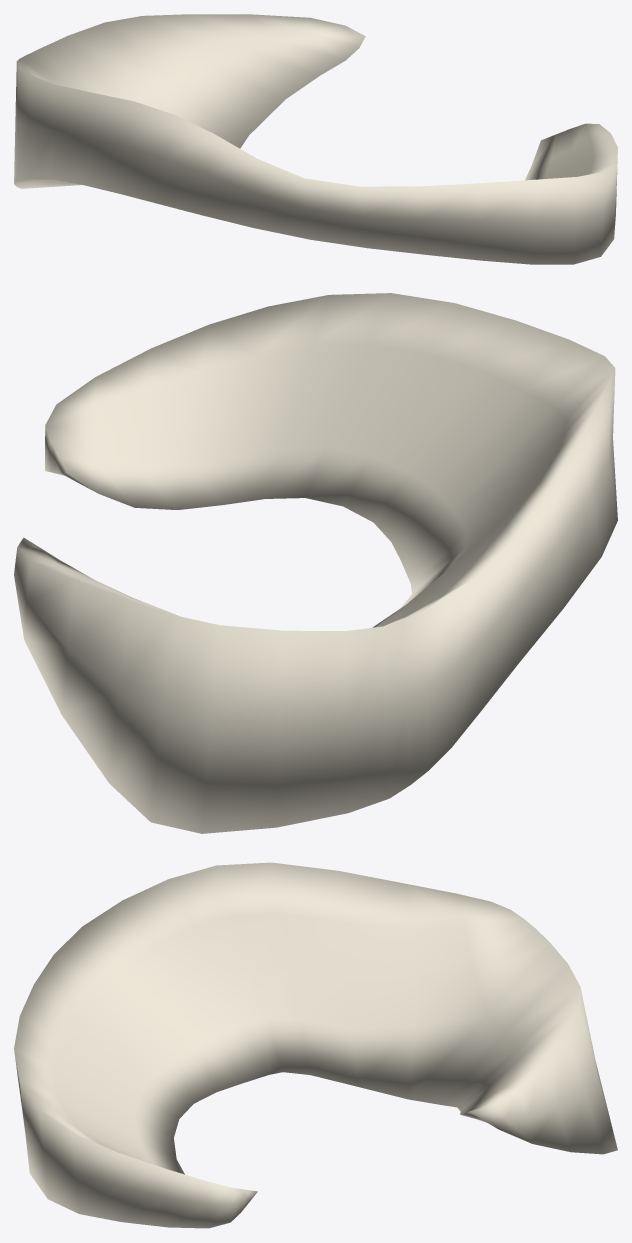
3 views of the same model, one above another, from view 1: azimuth 30°, elevation 25°; view 2: azimuth 150°, elevation 25°; view 3: azimuth 270°, elevation 25° (orthographic). The views are drawn at different scales.
Visible parts, largest first — view 1: ZA_2a8842e9c3dbbcab; view 2: ZA_2a8842e9c3dbbcab; view 3: ZA_2a8842e9c3dbbcab.
Boxes of the visible parts, <box> form: ZA_2a8842e9c3dbbcab: <box>14,14,617,264</box>; ZA_2a8842e9c3dbbcab: <box>14,293,617,833</box>; ZA_2a8842e9c3dbbcab: <box>14,862,617,1228</box>.
Size of the model in its own units: 0.0338 by 0.0153 by 0.0387.
